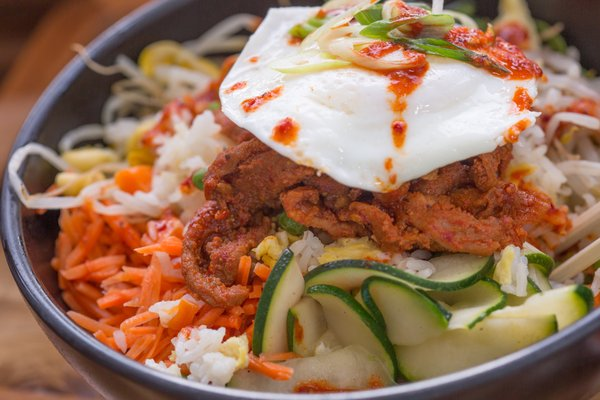soup: (218, 1, 553, 249)
